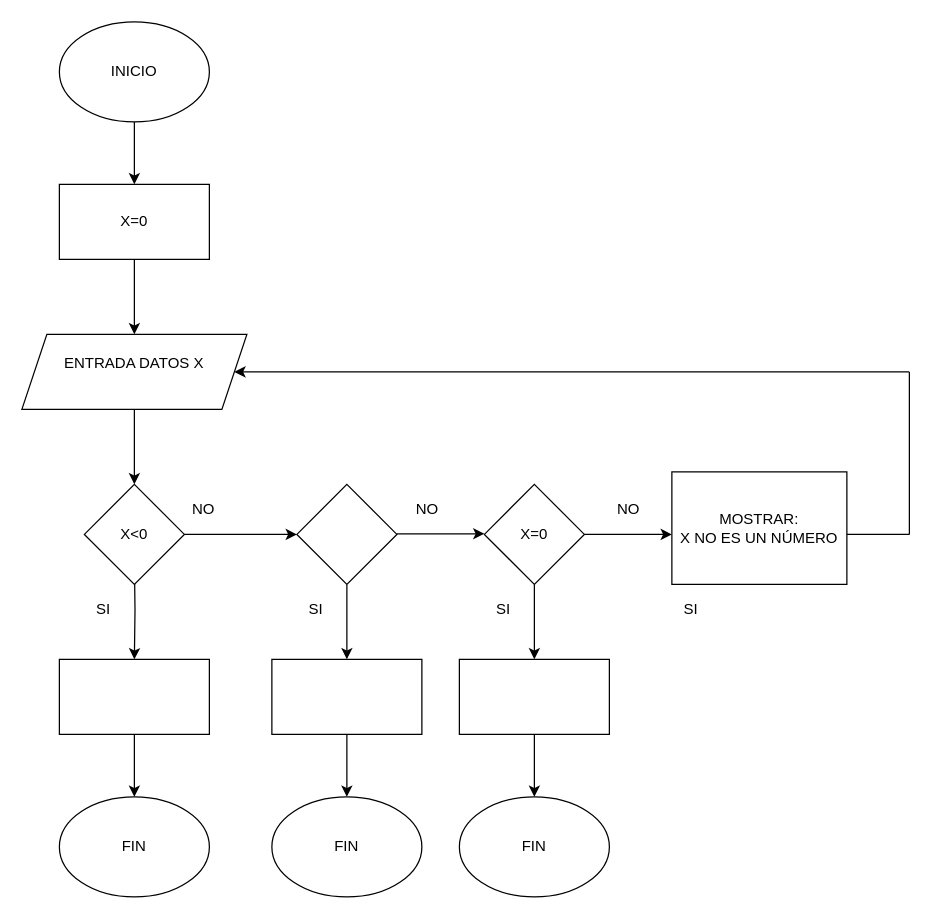
The diagram is 941 pixels wide and 919 high, and some of its shapes have lost their labels. Each missing label, with the centre of its shape:
MOSTRAR: X ES 0: the point at 533,696
MOSTRAR: X ES NEGATIVO: the point at 133,696
MOSTRAR: X ES POSITIVO: the point at 346,696
X>0: the point at 346,533
